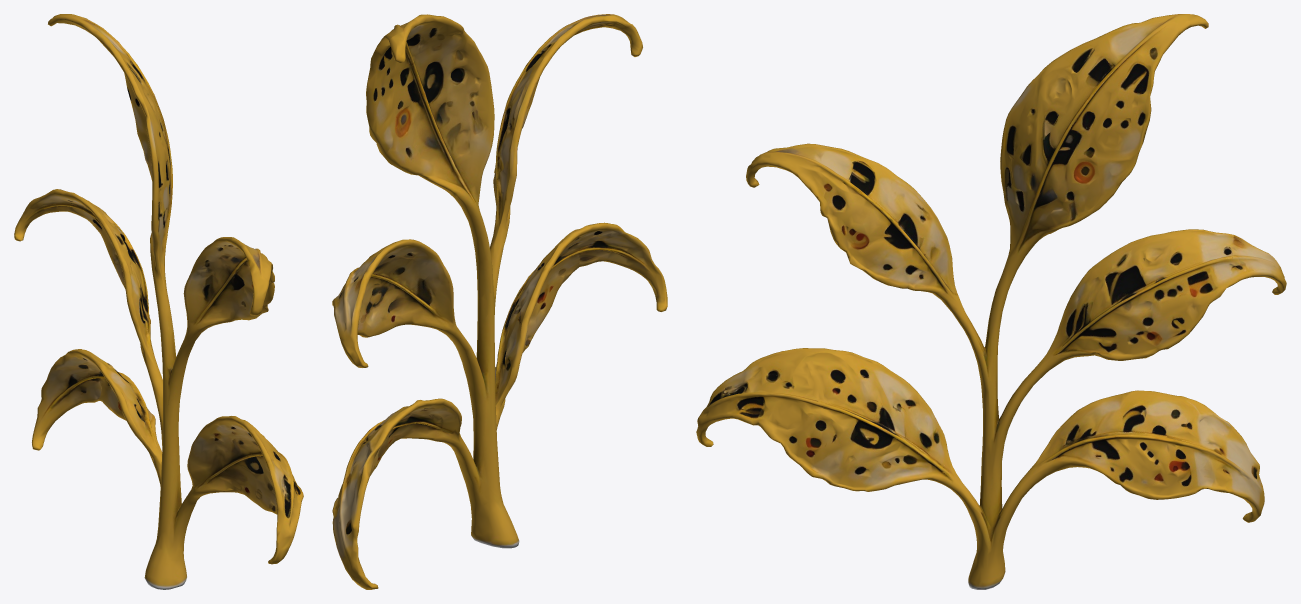
File: ornamental+plant+3d+model+1k.glb
3 renders of one model, left to right at view 1: azimuth 30°, elevation 25°; view 2: azimuth 150°, elevation 25°; view 3: azimuth 270°, elevation 25°, orthographic. The views are drawn at different scales.
Parts seen in each view (by area): view 1: tripo_node_35168516-ab7c-4d8e-8e75-1c50125aaad2; view 2: tripo_node_35168516-ab7c-4d8e-8e75-1c50125aaad2; view 3: tripo_node_35168516-ab7c-4d8e-8e75-1c50125aaad2.
Part boxes in pixels (<box>): tripo_node_35168516-ab7c-4d8e-8e75-1c50125aaad2: <box>14,14,303,589</box>; tripo_node_35168516-ab7c-4d8e-8e75-1c50125aaad2: <box>332,14,667,589</box>; tripo_node_35168516-ab7c-4d8e-8e75-1c50125aaad2: <box>696,14,1286,589</box>.
Bounding box in the file's own units: 0.1429 × 1 × 0.947.
1 material, 1 textured.
